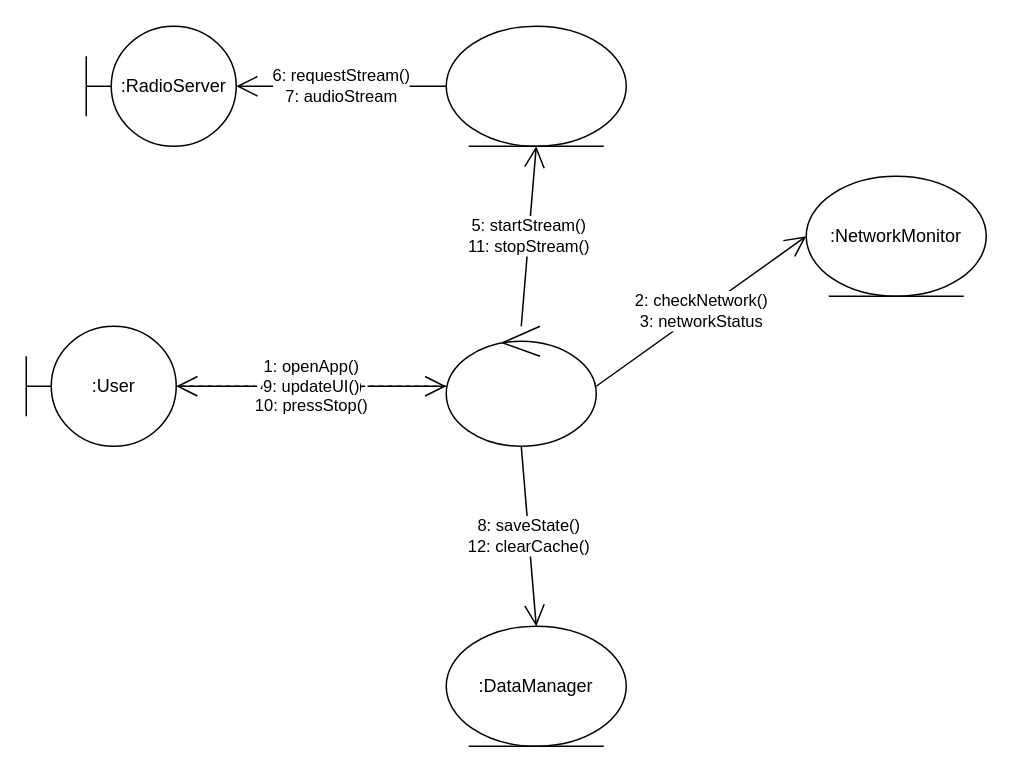
Some shapes in this 1013 by 773 pixel diagram are drawn without their labels. Here are the shapes that lost their labels. From the top down, the centre of each, then its label:
the point at 535,85: :AudioStreamManager
the point at 520,385: :MainActivity
